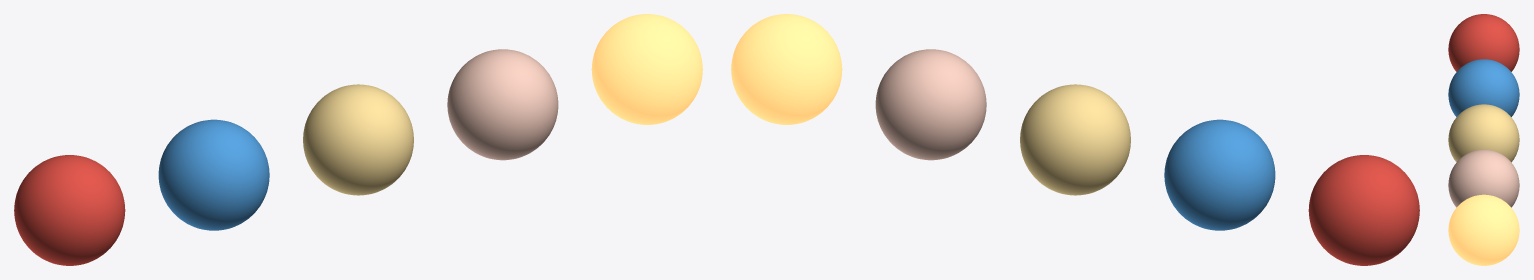
File: spheres.gltf
3 renders of one model, left to right at view 1: azimuth 30°, elevation 25°; view 2: azimuth 150°, elevation 25°; view 3: azimuth 270°, elevation 25°, orthographic. The views are drawn at different scales.
Parts seen in each view (by area): view 1: Gold, Rough, Copper, Glossy, Glowing; view 2: Gold, Rough, Copper, Glossy, Glowing; view 3: Glowing, Rough, Glossy, Copper, Gold.
Part boxes in pixels (<box>): Gold: <box>303,84,413,195</box>; Rough: <box>158,119,269,230</box>; Copper: <box>447,49,558,160</box>; Glossy: <box>14,155,125,265</box>; Glowing: <box>591,14,702,124</box>; Gold: <box>1020,84,1130,195</box>; Rough: <box>1164,119,1275,230</box>; Copper: <box>875,49,986,160</box>; Glossy: <box>1308,155,1419,265</box>; Glowing: <box>731,14,842,124</box>; Glowing: <box>1448,194,1519,265</box>; Rough: <box>1448,59,1519,116</box>; Glossy: <box>1448,14,1519,71</box>; Copper: <box>1448,149,1519,207</box>; Gold: <box>1448,104,1519,162</box>.
Size of the model in its own units: 7 by 1 by 1.
